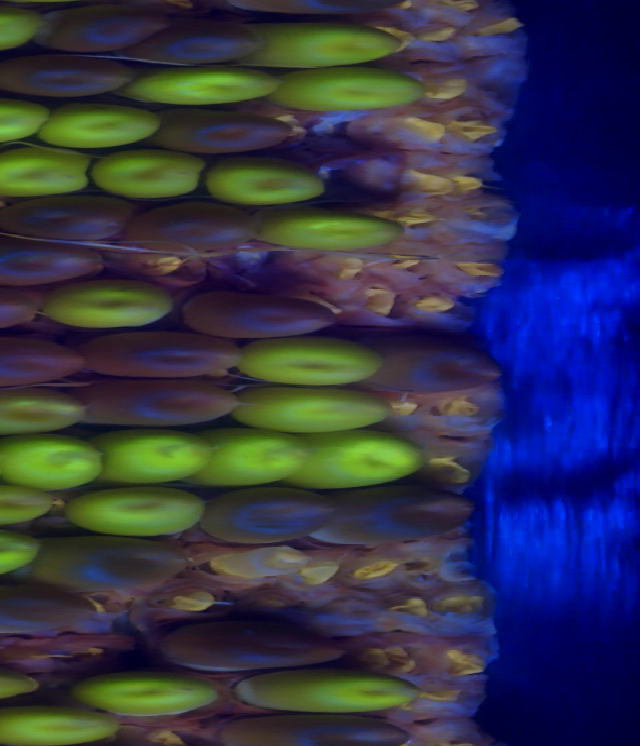fluorescent: (259, 208, 406, 265), (235, 672, 428, 710), (310, 427, 428, 487), (239, 340, 381, 388), (230, 387, 388, 430), (259, 30, 409, 73), (280, 73, 439, 113), (133, 69, 277, 113), (99, 429, 210, 485), (42, 284, 175, 330), (74, 673, 229, 711), (4, 433, 106, 487), (46, 107, 168, 149), (206, 437, 303, 489), (64, 498, 200, 533), (88, 150, 204, 191), (0, 707, 105, 746), (207, 165, 330, 195), (0, 158, 91, 197), (0, 400, 80, 436), (0, 4, 42, 59), (0, 104, 48, 145), (0, 488, 54, 523), (0, 536, 36, 585), (0, 660, 38, 701)
nonfluorescent: (161, 610, 339, 669), (335, 484, 480, 549), (41, 530, 181, 592), (207, 484, 335, 549), (378, 327, 502, 392), (83, 331, 249, 375), (186, 287, 344, 333), (126, 198, 264, 249), (88, 375, 244, 418), (220, 711, 395, 746), (0, 197, 126, 245), (0, 582, 99, 643), (0, 53, 130, 94), (149, 24, 265, 69), (158, 111, 284, 152), (0, 236, 106, 284), (0, 330, 87, 387), (48, 5, 162, 47), (0, 281, 36, 327)
